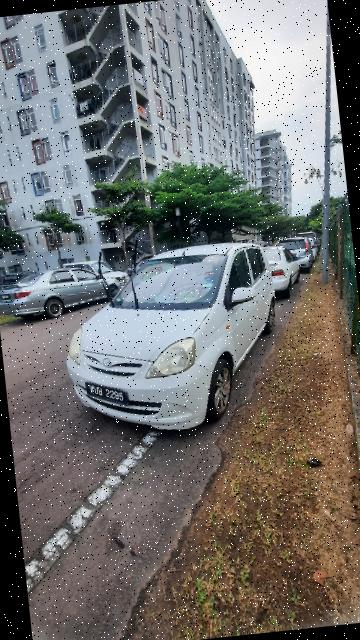License_Plate: (84, 376, 131, 412)
car: (50, 222, 291, 448)
